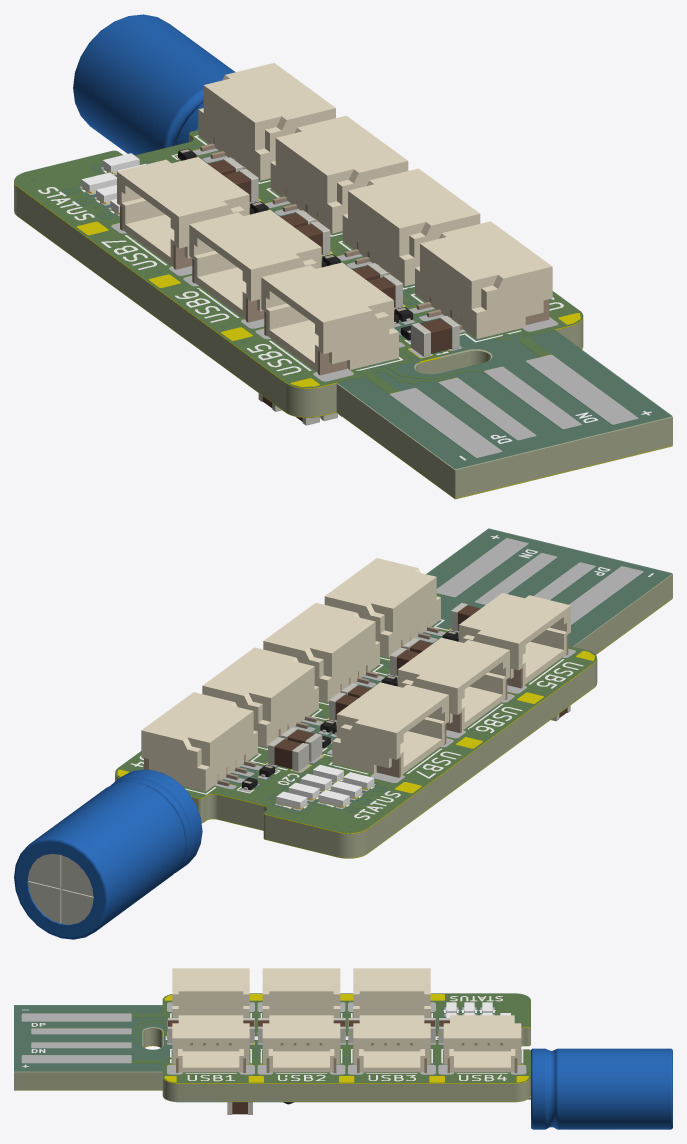
The picture shows the model from 3 angles, top to bottom: view 1: azimuth 30°, elevation 25°; view 2: azimuth 150°, elevation 25°; view 3: azimuth 270°, elevation 25°; orthographic projection. The views are drawn at different scales.
Parts seen in each view (by area): view 1: =>[0:1:1:5] (×7), =>[0:1:1:31], =>[0:1:1:29], =>[0:1:1:23], =>[0:1:1:24], =>[0:1:1:25], =>[0:1:1:27], =>[0:1:1:7]; view 2: =>[0:1:1:5] (×7), =>[0:1:1:29], =>[0:1:1:31], =>[0:1:1:23], =>[0:1:1:24], =>[0:1:1:25], =>[0:1:1:27], =>[0:1:1:7] (×2); view 3: =>[0:1:1:5] (×7), =>[0:1:1:31], =>[0:1:1:29], =>[0:1:1:23], =>[0:1:1:24], =>[0:1:1:25], =>[0:1:1:27], =>[0:1:1:30], =>[0:1:1:7].
Part boxes in pixels (left/top/right/bottom): =>[0:1:1:5] (×7): left=117, top=63, right=552, bottom=375; =>[0:1:1:31]: left=14, top=134, right=672, bottom=498; =>[0:1:1:29]: left=14, top=130, right=672, bottom=469; =>[0:1:1:23]: left=73, top=14, right=235, bottom=155; =>[0:1:1:24]: left=14, top=131, right=671, bottom=498; =>[0:1:1:25]: left=79, top=148, right=638, bottom=457; =>[0:1:1:27]: left=38, top=135, right=651, bottom=460; =>[0:1:1:7]: left=411, top=316, right=459, bottom=356; =>[0:1:1:5] (×7): left=141, top=558, right=570, bottom=791; =>[0:1:1:29]: left=115, top=528, right=672, bottom=833; =>[0:1:1:31]: left=115, top=530, right=672, bottom=857; =>[0:1:1:23]: left=14, top=769, right=202, bottom=939; =>[0:1:1:24]: left=115, top=594, right=671, bottom=858; =>[0:1:1:25]: left=214, top=538, right=643, bottom=810; =>[0:1:1:27]: left=131, top=535, right=653, bottom=819; =>[0:1:1:7] (×2): left=268, top=727, right=322, bottom=771; =>[0:1:1:5] (×7): left=172, top=968, right=521, bottom=1072; =>[0:1:1:31]: left=14, top=1003, right=530, bottom=1101; =>[0:1:1:29]: left=14, top=993, right=530, bottom=1083; =>[0:1:1:23]: left=528, top=1048, right=672, bottom=1129; =>[0:1:1:24]: left=14, top=994, right=530, bottom=1101; =>[0:1:1:25]: left=21, top=1002, right=526, bottom=1074; =>[0:1:1:27]: left=22, top=996, right=523, bottom=1081; =>[0:1:1:30]: left=14, top=1045, right=530, bottom=1102; =>[0:1:1:7]: left=227, top=1102, right=252, bottom=1114.
Bounding box in the file's own units: 0.0165 × 0.00814 × 0.051.
